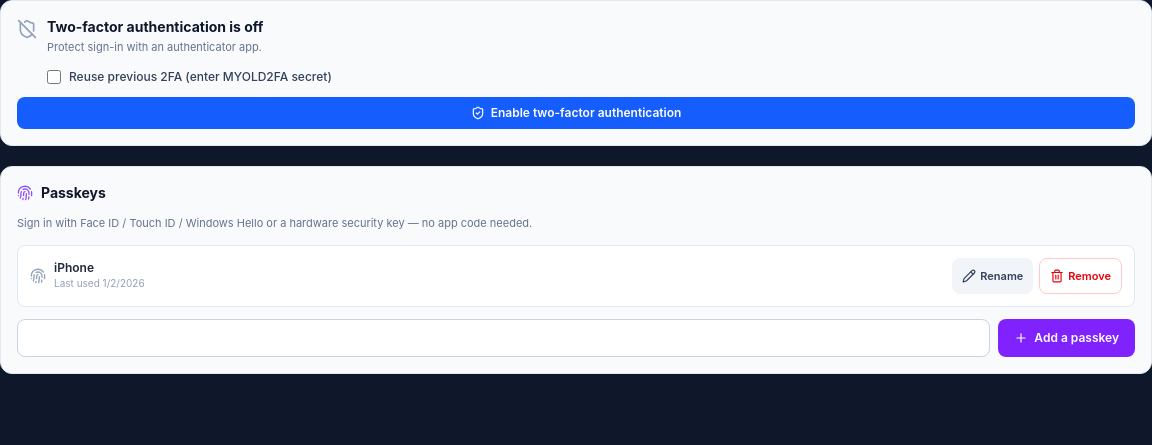
Test: SecurityTab passkeys section › lists existing passkeys and adds a new one
Expected: the text "iPhone" is shown, x1=54 y1=260 x2=94 y2=275
Click the button "Add a passkey". click: (1067, 338)
box: x1=998 y1=319 x2=1135 y2=357
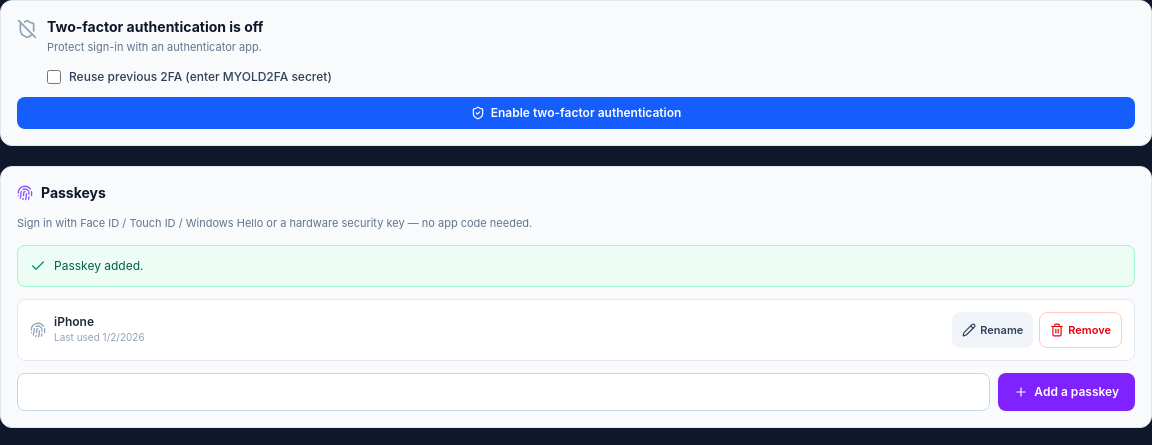
Now the text "Passkey added." is shown, box x1=54 y1=258 x2=144 y2=274
